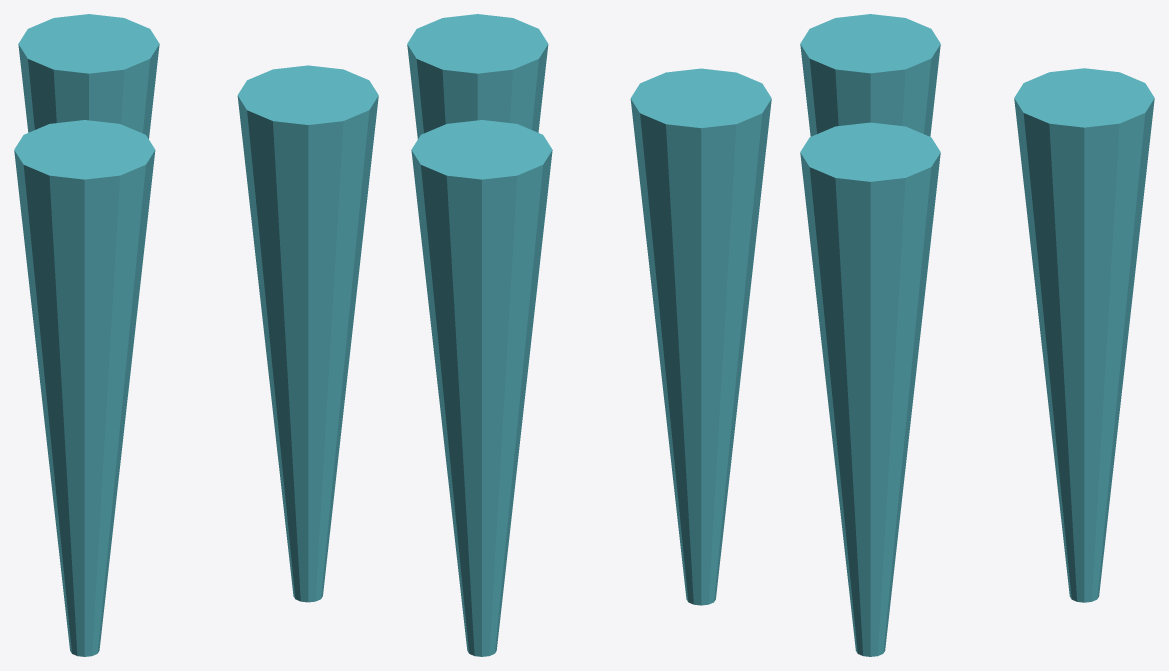
The model's file is survey-ship-exhaust.glb.
3 renders of one model, left to right at view 1: azimuth 30°, elevation 25°; view 2: azimuth 150°, elevation 25°; view 3: azimuth 270°, elevation 25°, orthographic.
Parts seen in each view (by area): view 1: Rocket engine exhaust / Survey ship cyan service lines; view 2: Rocket engine exhaust / Survey ship cyan service lines; view 3: Rocket engine exhaust / Survey ship cyan service lines.
Boxes of the visible parts, <box> form: Rocket engine exhaust / Survey ship cyan service lines: <box>14,14,378,656</box>; Rocket engine exhaust / Survey ship cyan service lines: <box>407,14,771,656</box>; Rocket engine exhaust / Survey ship cyan service lines: <box>800,14,1154,656</box>.
Size of the model in its own units: 0.65 by 0.9 by 0.58.
